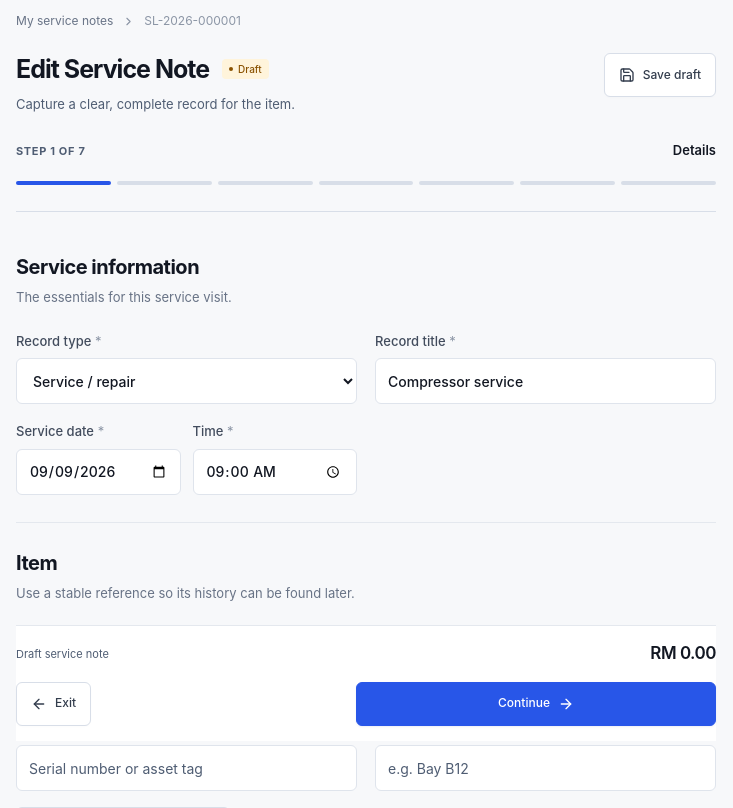
Test: service note editing › shows missing requirements and disables completion until acceptance is confirmed
The width and height of the screenshot is (733, 808).
What coordinates should you click on to do the following:
click the button named "Go to Review"
I would click on:
 (669, 183)
Its box is top-left (621, 171), bottom-right (716, 195).
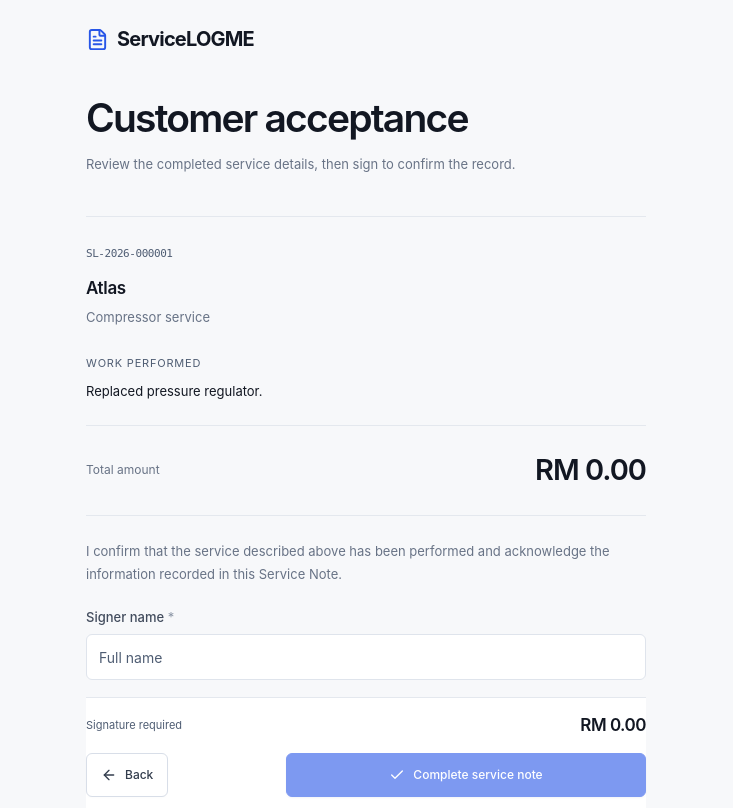
Expected: the heading "Customer acceptance" is shown, top-left (86, 94), bottom-right (468, 141)
Expected: the text "Signature required" is shown, top-left (86, 717), bottom-right (182, 734)
Expected: the button "Complete service note" is disabled, top-left (286, 753), bottom-right (646, 797)
